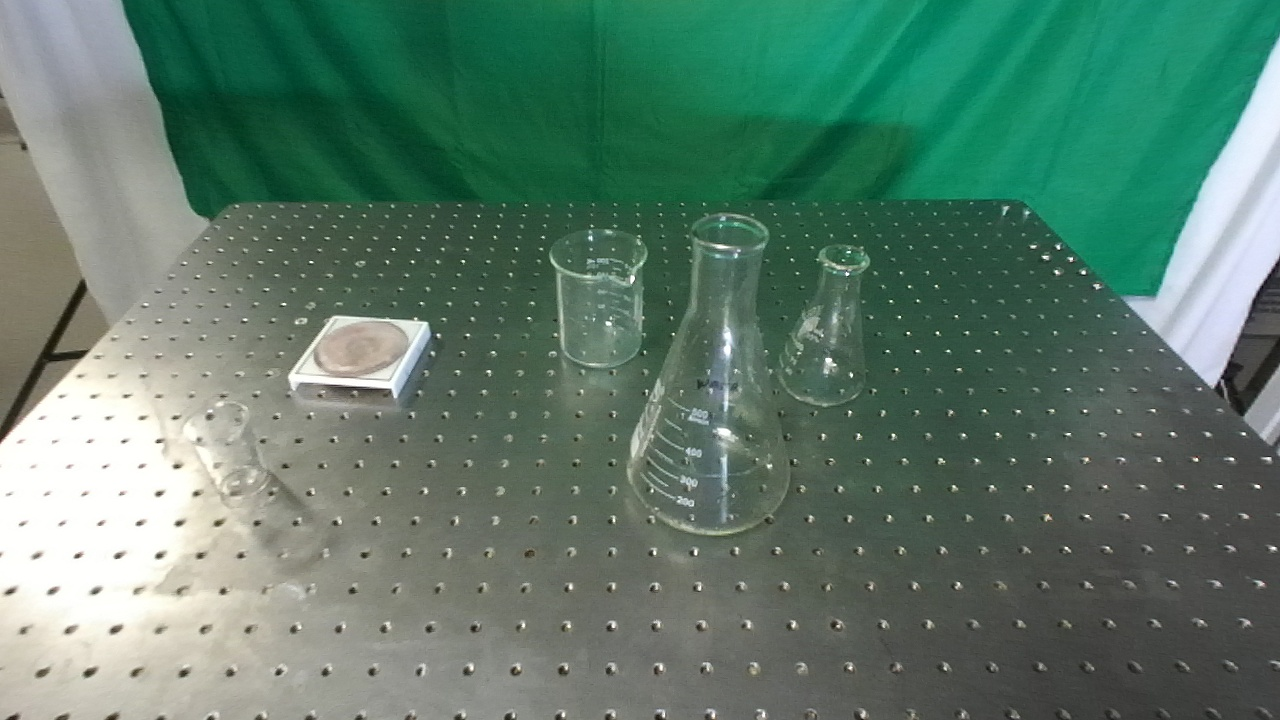glass: (622, 213, 794, 537), (777, 240, 872, 409), (547, 225, 649, 370), (186, 397, 271, 503)
plate: (283, 312, 434, 404)
